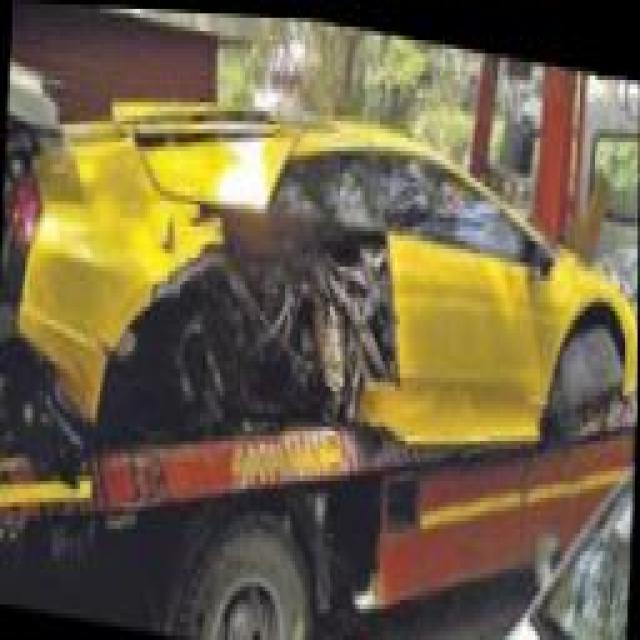Bumper: (0, 319, 87, 502)
Fender: (91, 124, 402, 430)
